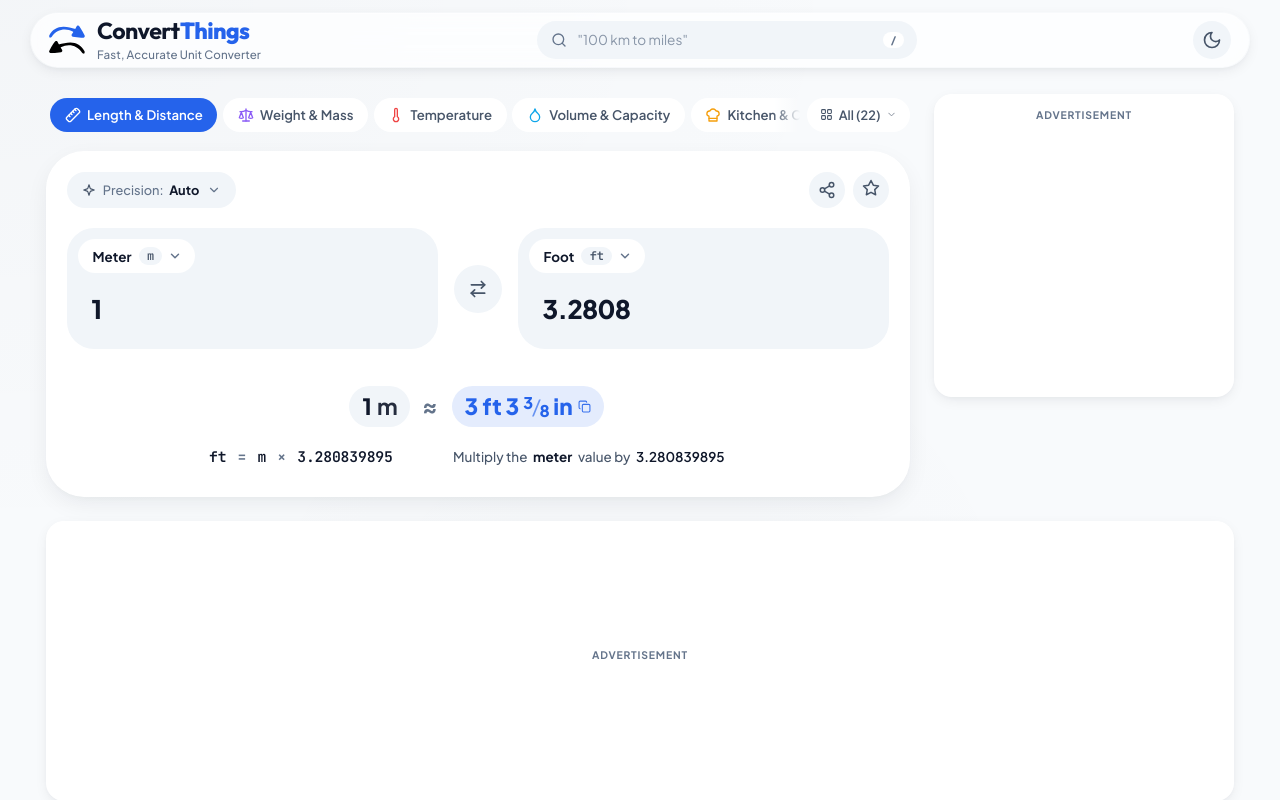
Scenario: ConvertThings UI Integration › formats large numbers with commas in equation readouts while keeping input fields numeric
Replace the text in the field named "Enter value in" with "1000000". click: (234, 310)
box: [78,287,391,333]
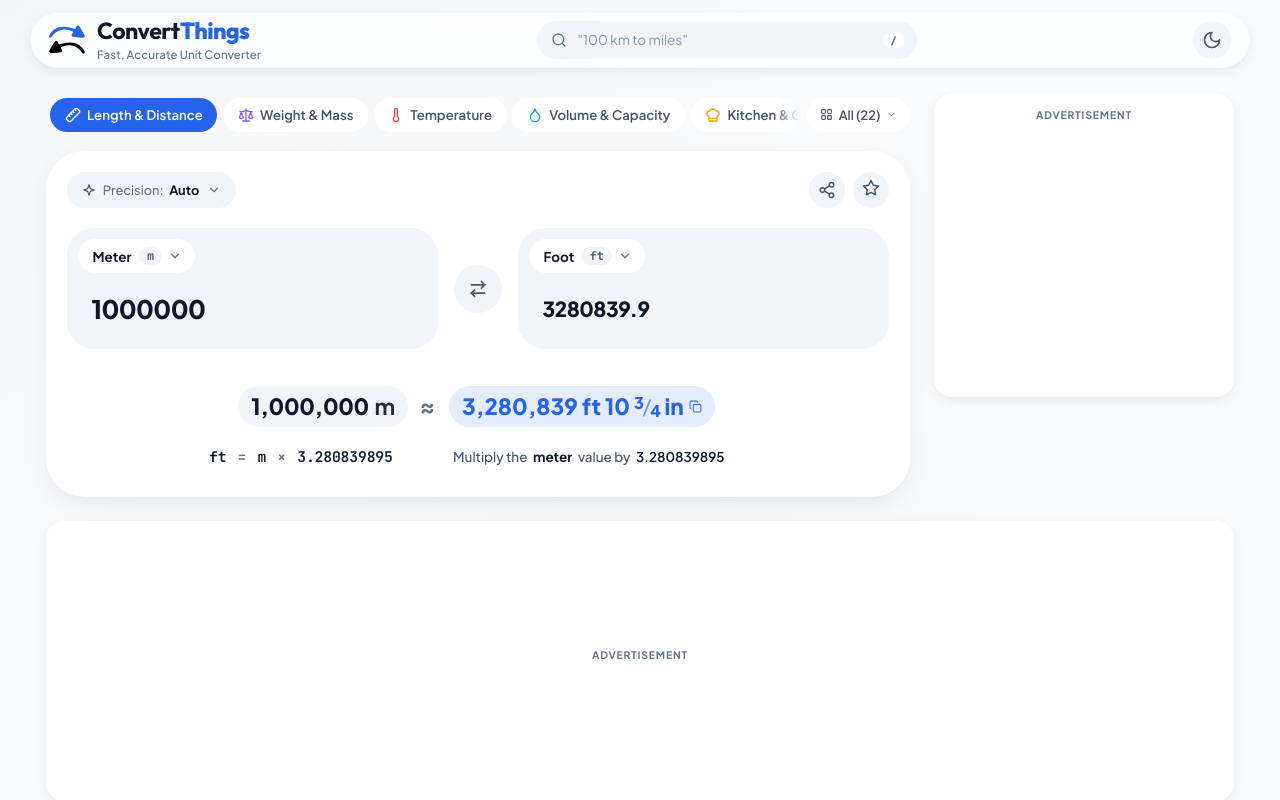
Expected: the element named "Conversion equations" shows "1,000,000 m", [196,386,760,472]
Expected: the element named "Conversion equations" shows "3,280,839", [449,386,715,427]
